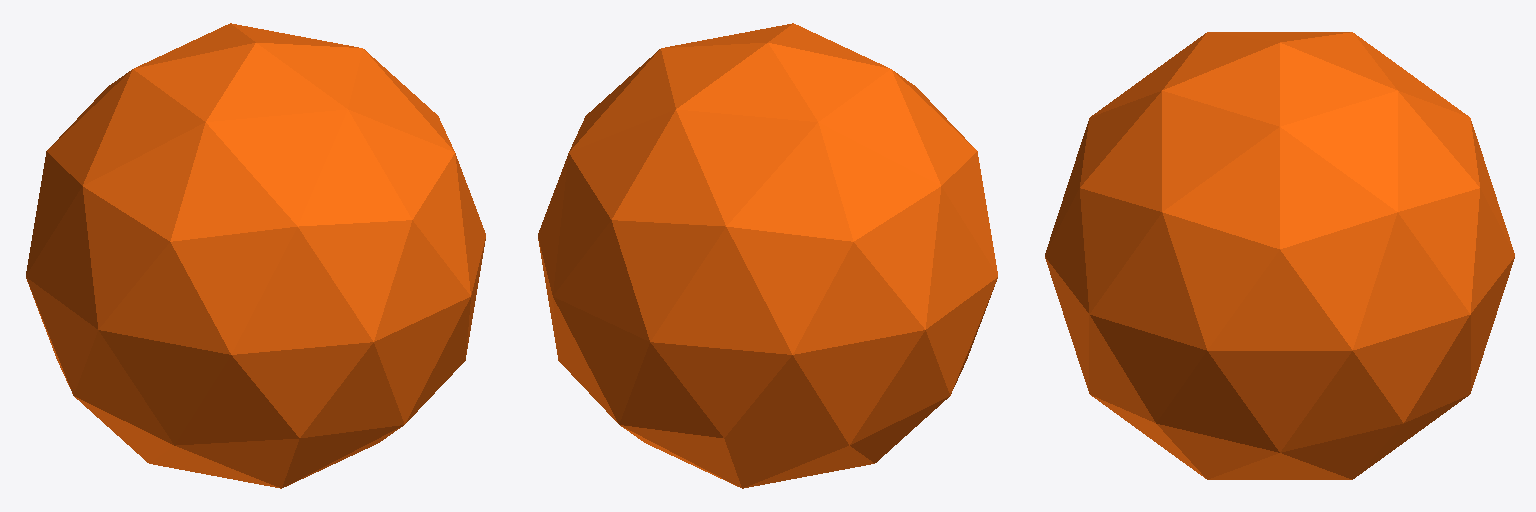
3 renders of one model, left to right at view 1: azimuth 30°, elevation 25°; view 2: azimuth 150°, elevation 25°; view 3: azimuth 270°, elevation 25°, orthographic.
Visible parts, largest first — view 1: Icosphere; view 2: Icosphere; view 3: Icosphere.
Part boxes in pixels (bbox=[...]): Icosphere: bbox=[26, 23, 485, 488]; Icosphere: bbox=[538, 23, 997, 488]; Icosphere: bbox=[1045, 32, 1514, 479].
Size of the model in its own units: 1.9 by 2 by 2.
Materials: 1 (1 with a texture image).